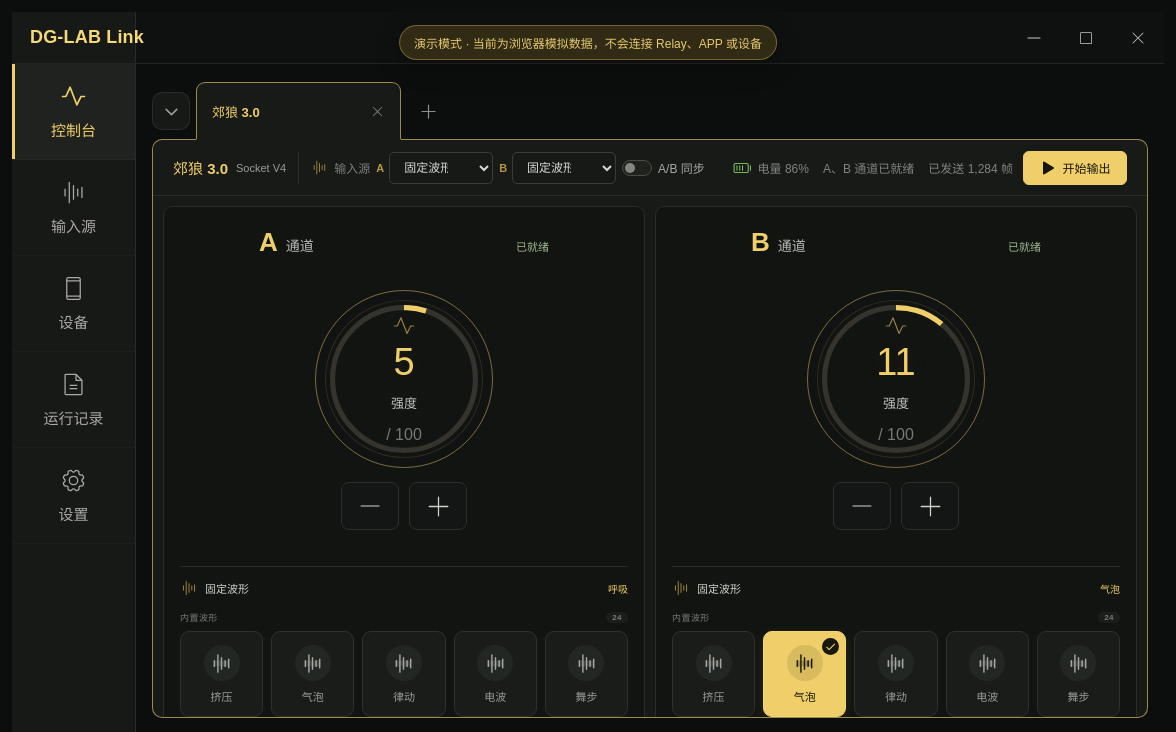
Test: DG-LAB Link 前端 › 可以在设备标签页内独立开始和停止输出
Click the button with aria-label "开始 郊狼 3.0 的波形输出": point(1075, 168) [1023,150,1127,184]
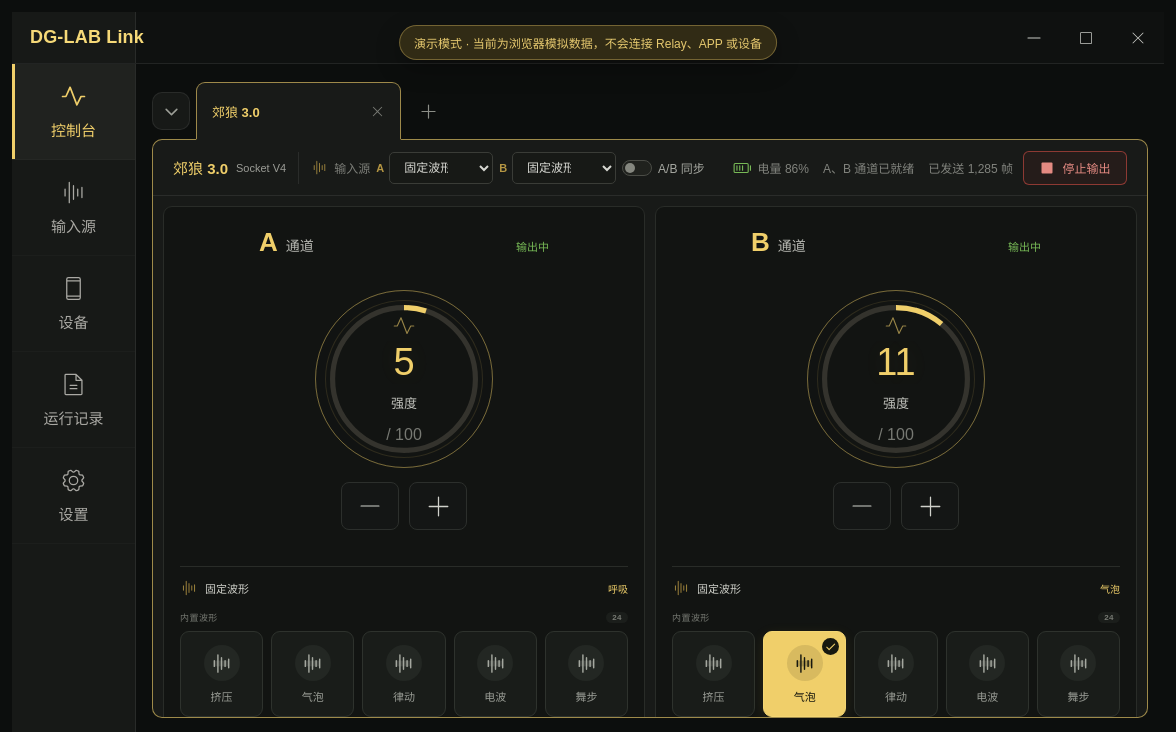
Now the button with aria-label "停止 郊狼 3.0 的波形输出" is shown
Click the button with aria-label "停止 郊狼 3.0 的波形输出": point(1075, 168) [1023,150,1127,184]
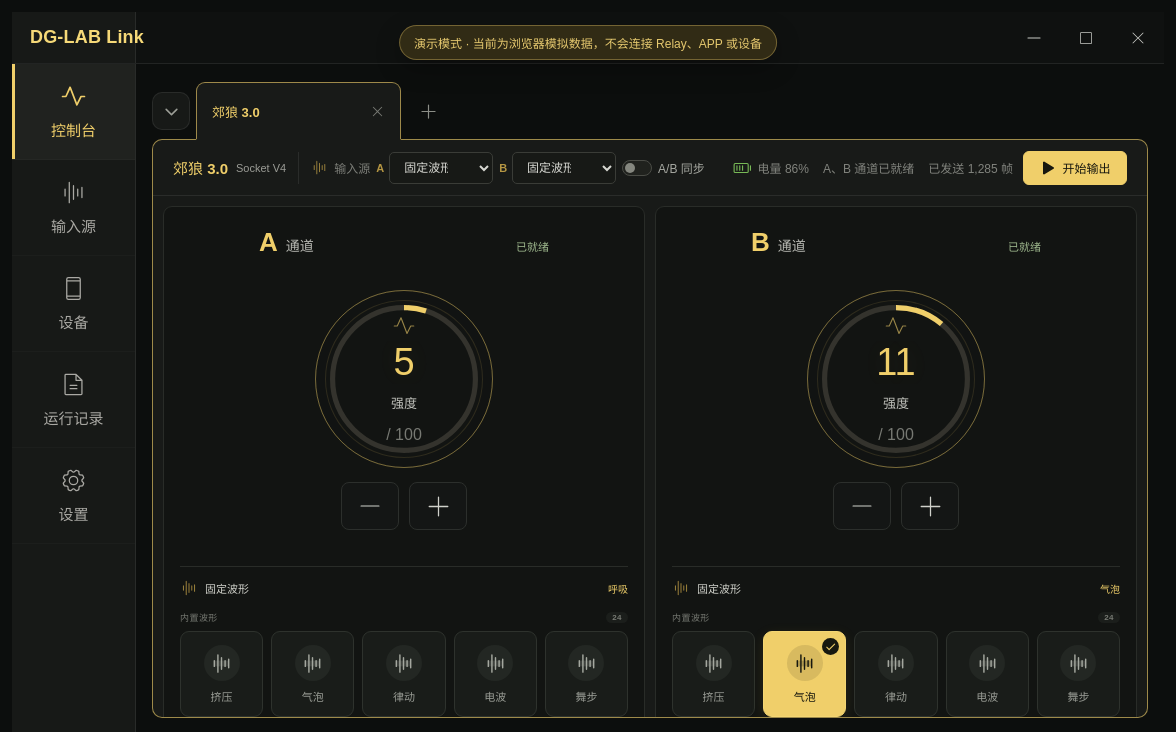
Now the button with aria-label "开始 郊狼 3.0 的波形输出" is shown, box [1023,150,1127,184]
